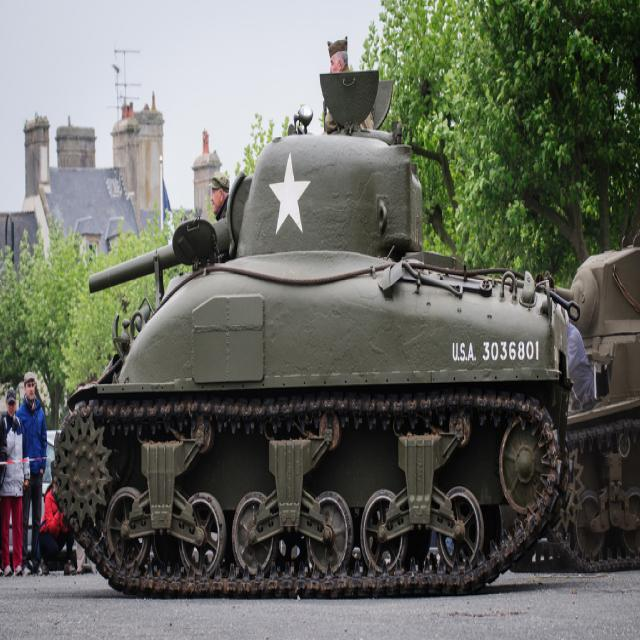tank: (51, 71, 578, 596), (479, 238, 639, 574)
